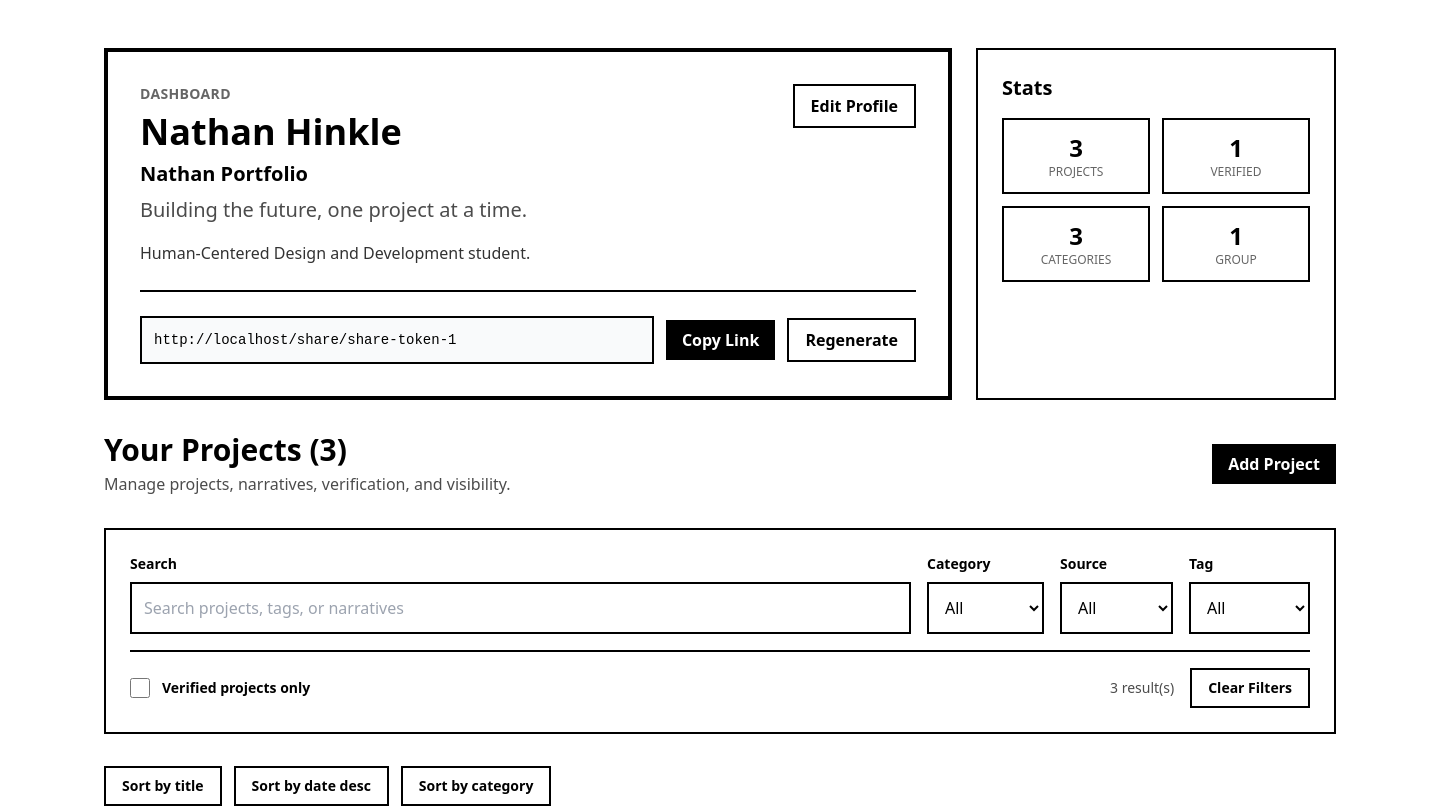
Test: Dashboard major features › opens the add project form
This screenshot has width=1440, height=810.
What coordinates should you click on to do the following:
click the button "Add Project"
I would click on:
 (1274, 464)
Its box is x1=1212 y1=444 x2=1336 y2=484.
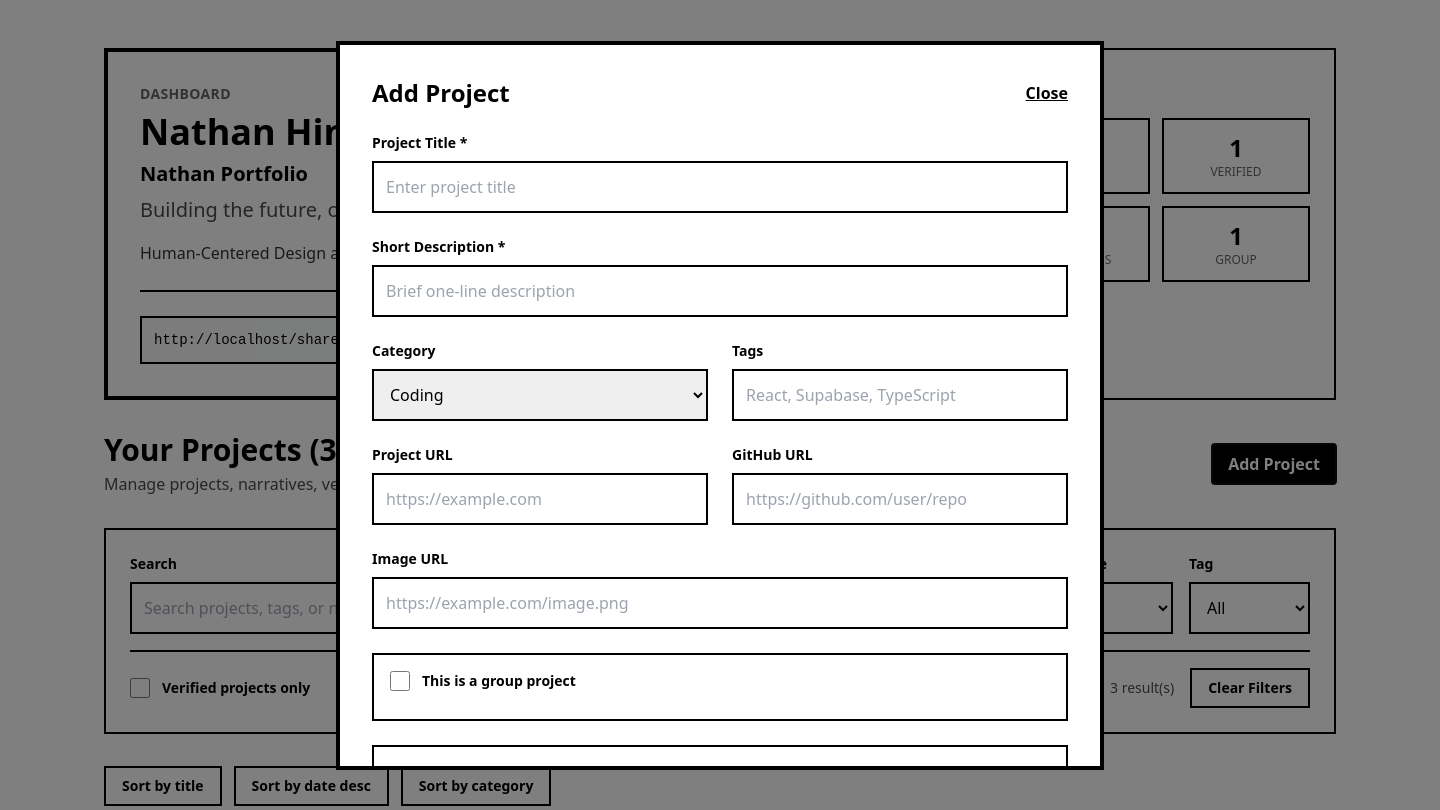
Expected: the heading "Add Project" is shown, x1=372 y1=76 x2=510 y2=108
Expected: the field labelled "Project Title *" is shown, x1=372 y1=160 x2=1068 y2=212
Expected: the field labelled "Short Description *" is shown, x1=372 y1=264 x2=1068 y2=316
